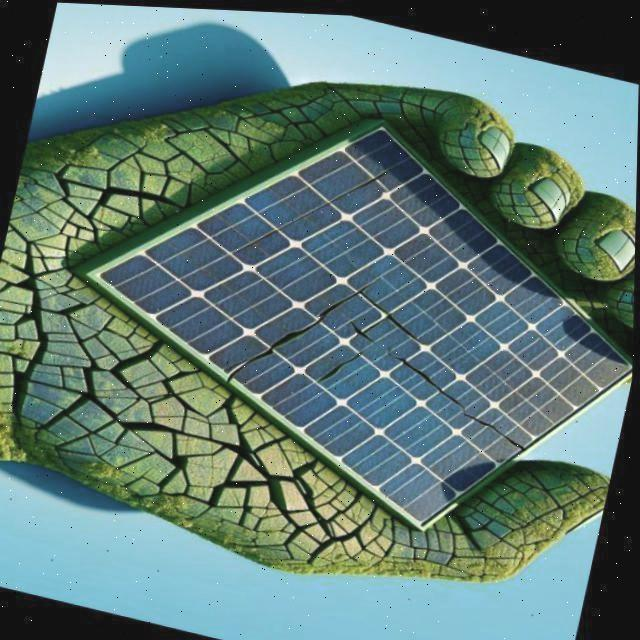Anomaly Solar Panel: (98, 53, 634, 589)
Structural Damage: (224, 274, 401, 403), (383, 343, 528, 453), (317, 342, 374, 385), (389, 313, 425, 345), (350, 315, 391, 341)
